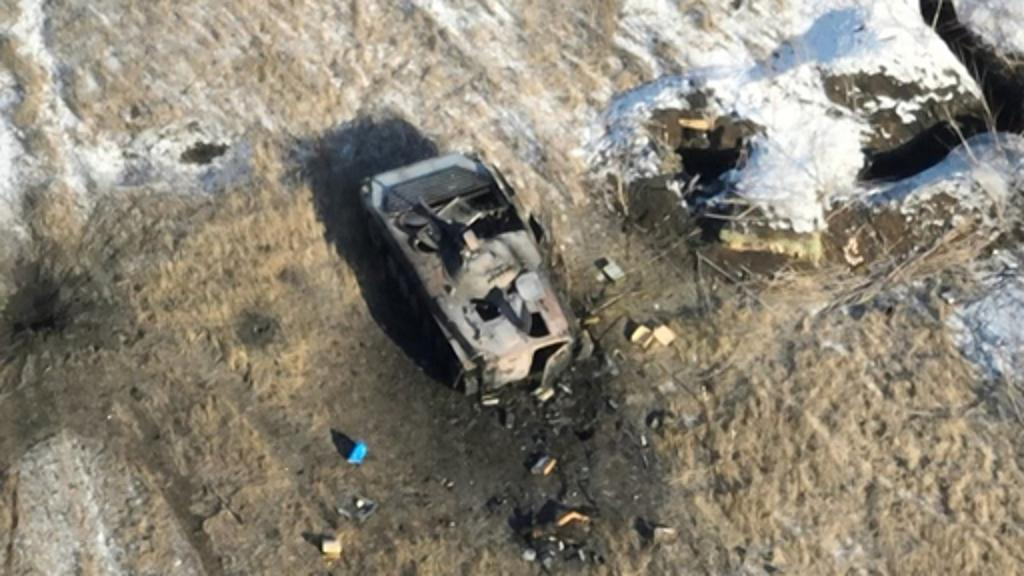APC-IFV: (332, 154, 584, 392)
